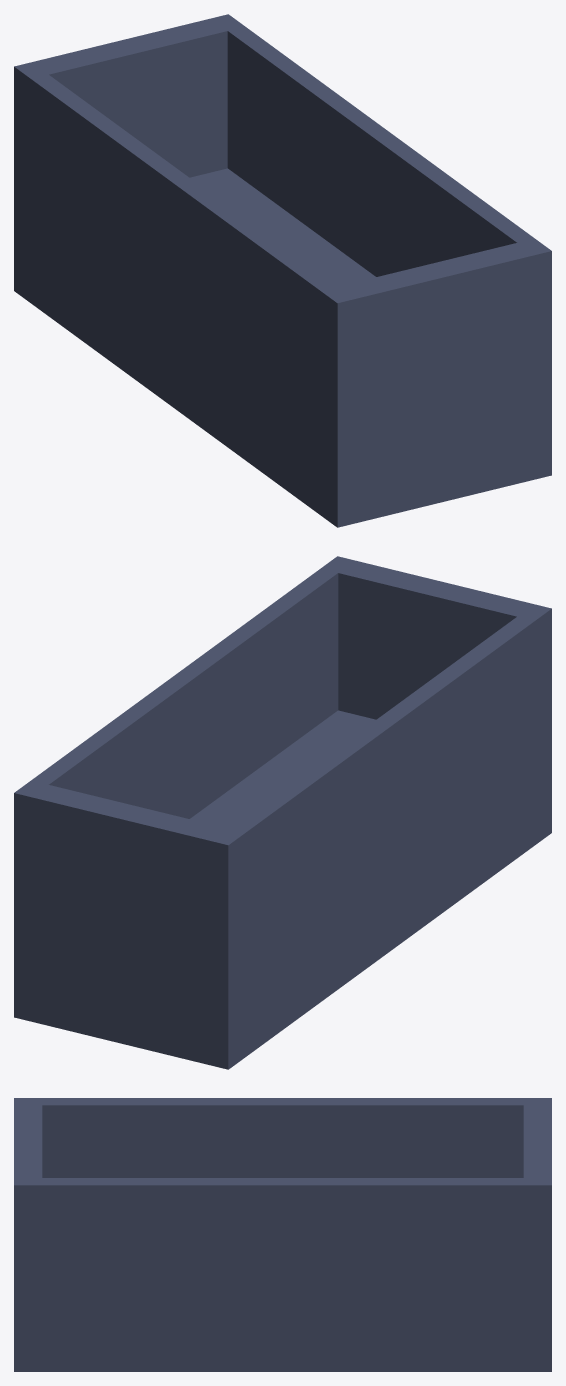
The model's file is cooler.fbx.
3 views of the same model, one above another, from view 1: azimuth 30°, elevation 25°; view 2: azimuth 150°, elevation 25°; view 3: azimuth 270°, elevation 25° (orthographic). The views are drawn at different scales.
Visible parts, largest first — view 1: pCube1; view 2: pCube1; view 3: pCube1.
Part boxes in pixels (x1,y1,x2,y2): pCube1: (14,14,551,527); pCube1: (14,556,551,1069); pCube1: (14,1098,551,1371).
Bounding box in the file's own units: 1 × 1 × 2.61.
